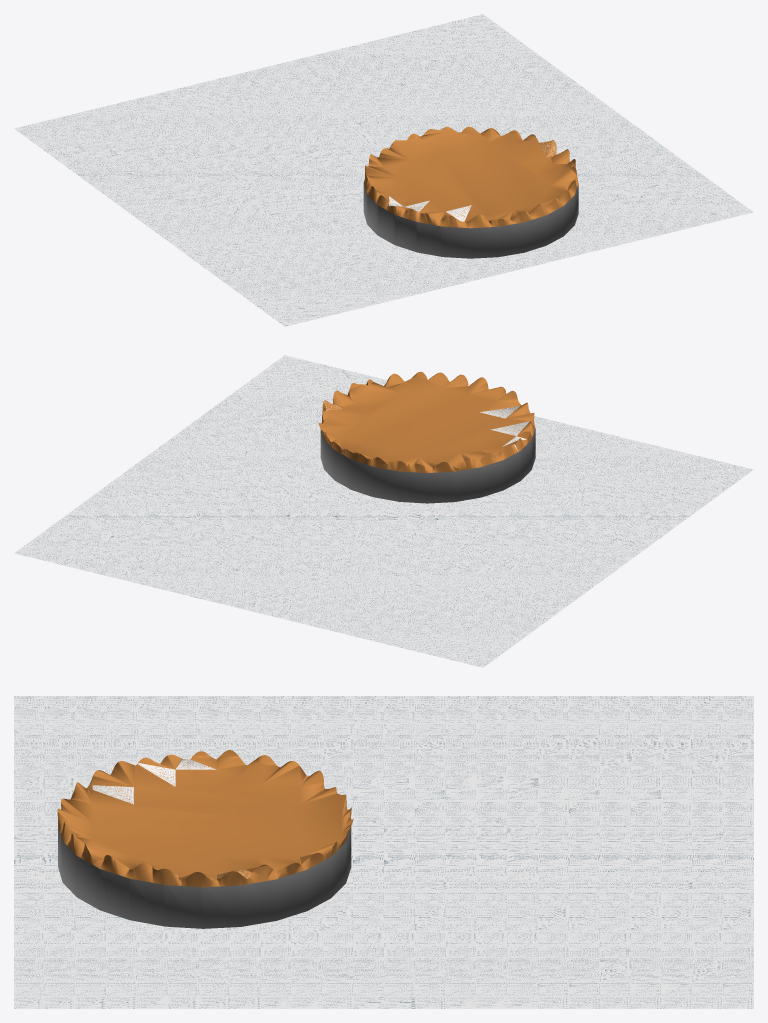
Rendered from Pumpkin Pie.dae.
3 views of the same model, one above another, from view 1: azimuth 30°, elevation 25°; view 2: azimuth 150°, elevation 25°; view 3: azimuth 270°, elevation 25° (orthographic). The views are drawn at different scales.
Parts seen in each view (by area): view 1: group_0, SketchUp (×2); view 2: group_0, SketchUp (×2); view 3: group_0, SketchUp (×2).
Boxes of the visible parts, x1,y1,x2,y2 form: group_0: (14, 14, 753, 326); SketchUp (×2): (363, 126, 578, 258); group_0: (14, 355, 753, 667); SketchUp (×2): (318, 371, 535, 503); group_0: (14, 696, 753, 1008); SketchUp (×2): (57, 750, 353, 928).
Bounding box in the file's own units: 12 × 12 × 1.04.
